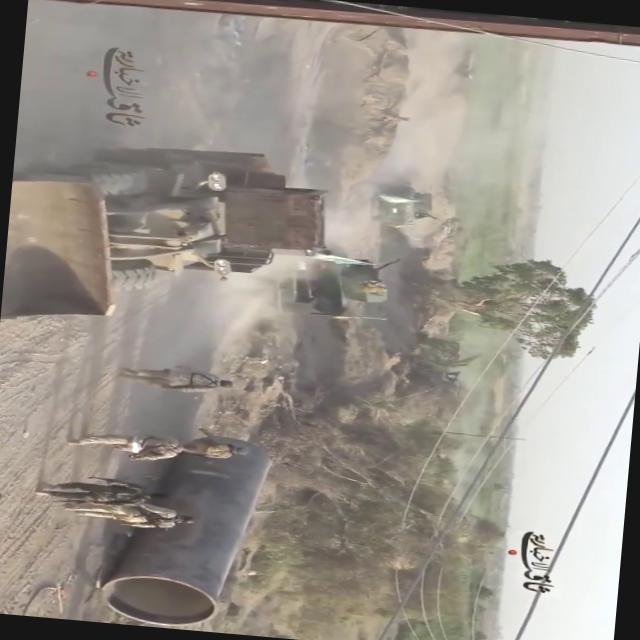long weapon: (41, 490, 121, 516)
